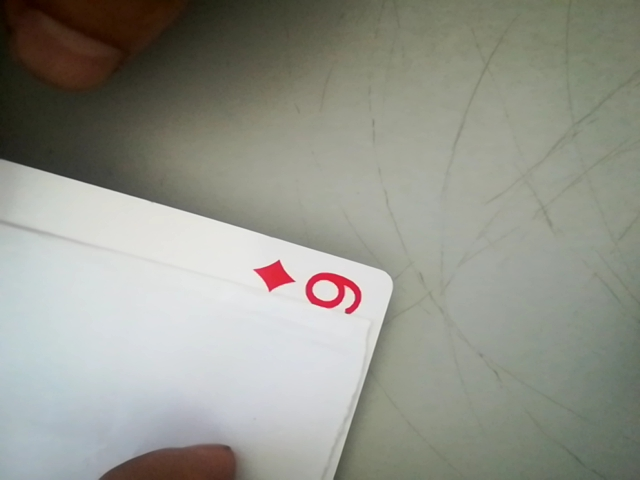fk 6: (252, 258, 378, 321)
